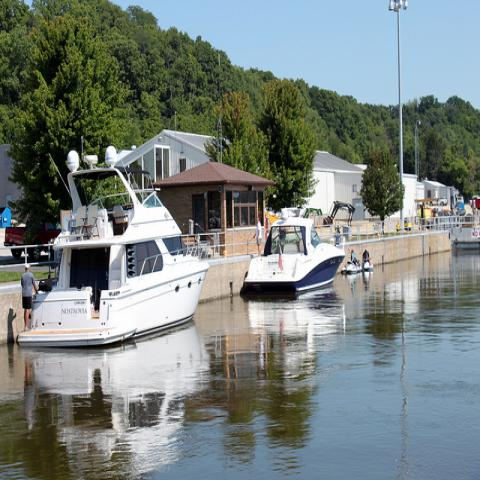car: (4, 214, 61, 262), (396, 218, 412, 232), (428, 196, 448, 206)
